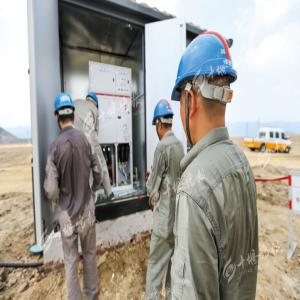blue: (175, 32, 239, 145), (153, 100, 176, 140), (55, 92, 78, 132)
